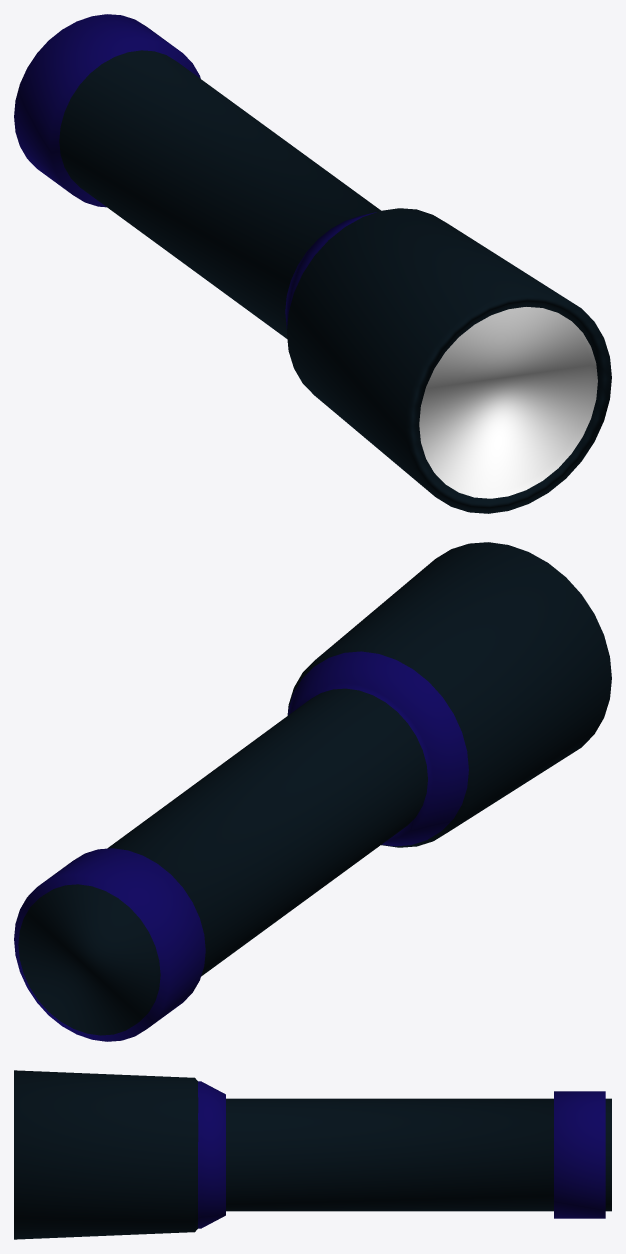
File: Taschenlampe.fbx
The picture shows the model from 3 angles, top to bottom: view 1: azimuth 30°, elevation 25°; view 2: azimuth 150°, elevation 25°; view 3: azimuth 270°, elevation 25°; orthographic projection. The views are drawn at different scales.
Parts seen in each view (by area): view 1: Zylinder; view 2: Zylinder; view 3: Zylinder.
Part boxes in pixels (bbox=[...]): Zylinder: bbox=[14, 14, 611, 513]; Zylinder: bbox=[14, 542, 611, 1041]; Zylinder: bbox=[14, 1070, 611, 1239].
Size of the model in its own units: 300 by 300 by 1060.
